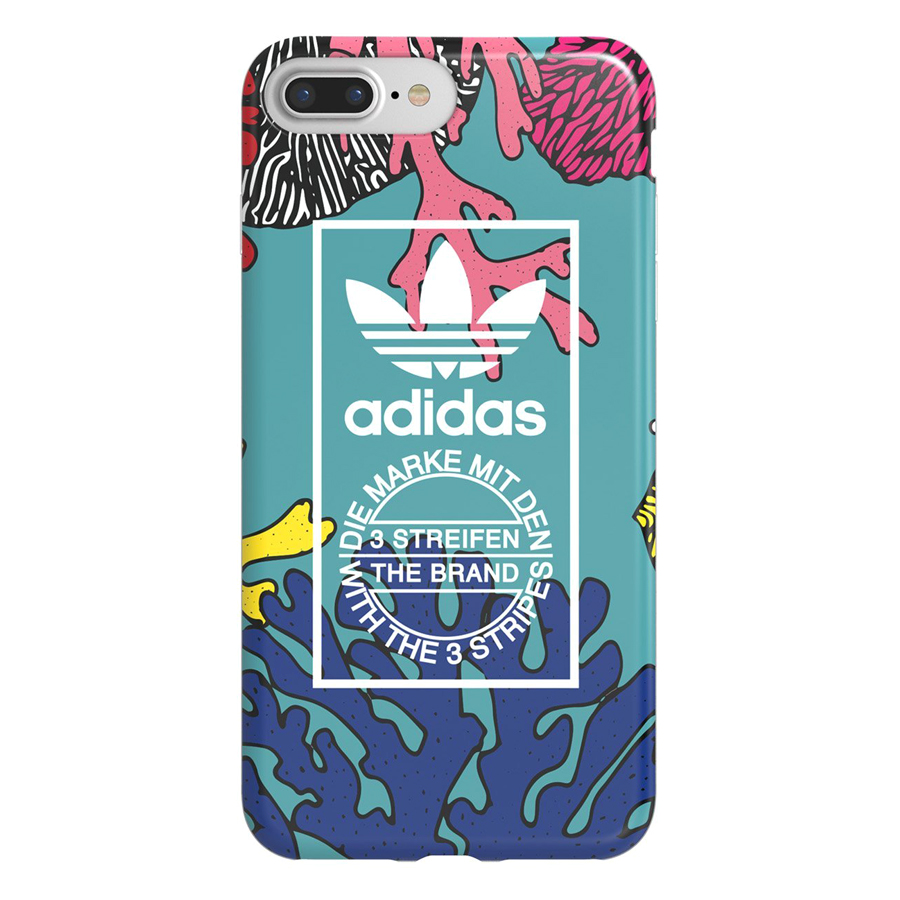Adidas: (340, 238, 552, 442)
